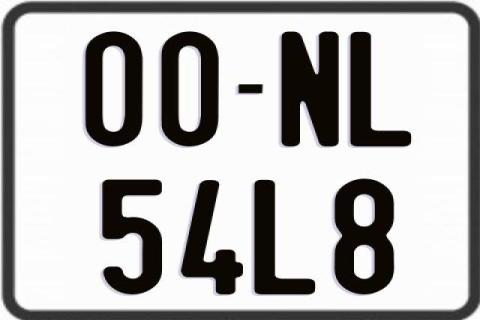0: (331, 177, 396, 297), (101, 179, 163, 299), (179, 180, 241, 298), (82, 29, 143, 147), (160, 31, 221, 149)
L: (348, 31, 414, 148), (251, 178, 312, 298)
N: (281, 29, 342, 149)
